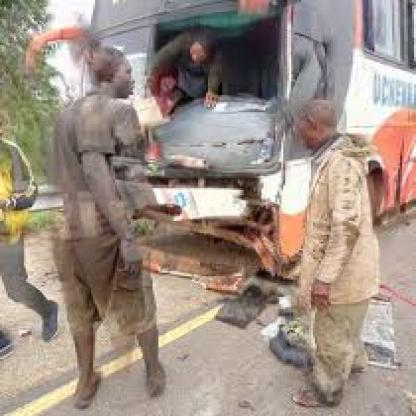accident: (33, 1, 416, 257)
